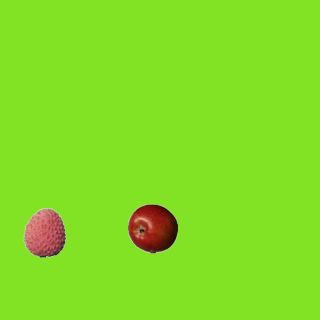Apple Braeburn: (127, 203, 177, 253)
Lychee: (19, 207, 69, 257)
